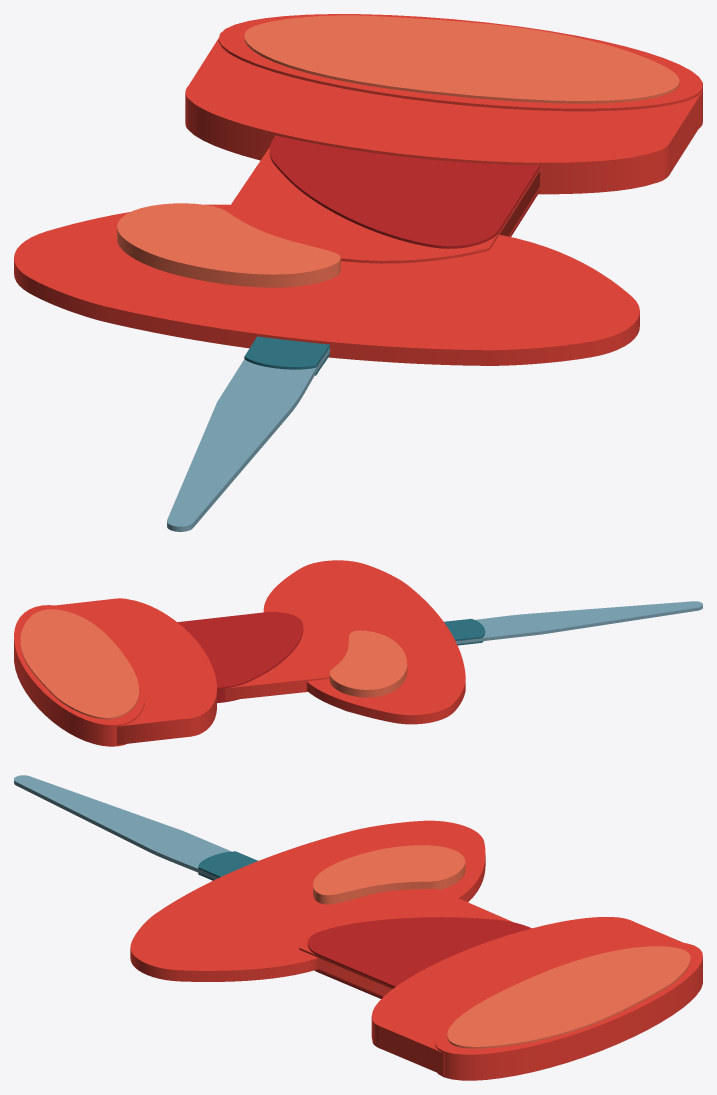
Rendered from emoji_u1f4cc.glb.
3 views of the same model, one above another, from view 1: azimuth 30°, elevation 25°; view 2: azimuth 150°, elevation 25°; view 3: azimuth 270°, elevation 25° (orthographic). The views are drawn at different scales.
Parts seen in each view (by area): view 1: emoji_u1f4cc; view 2: emoji_u1f4cc; view 3: emoji_u1f4cc.
Part boxes in pixels (x1,y1,x2,y2): emoji_u1f4cc: (14,14,702,531); emoji_u1f4cc: (14,560,702,746); emoji_u1f4cc: (14,775,702,1080).
Bounding box in the file's own units: 0.0336 × 0.0016 × 0.0336.
